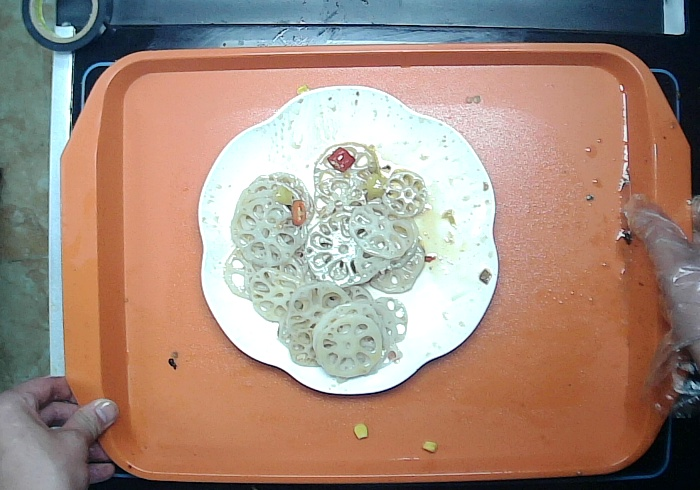HZYJPL-Bai_Se_Hua_Duo_Wan: (194, 82, 501, 400)
